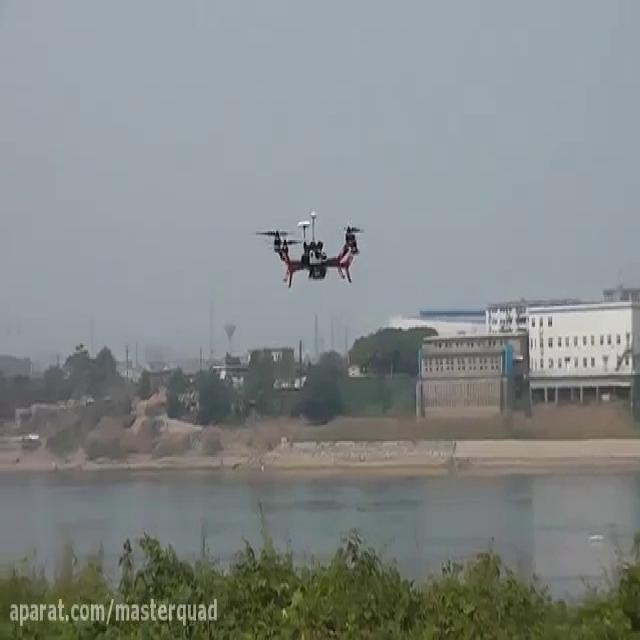drone: (251, 205, 373, 295)
